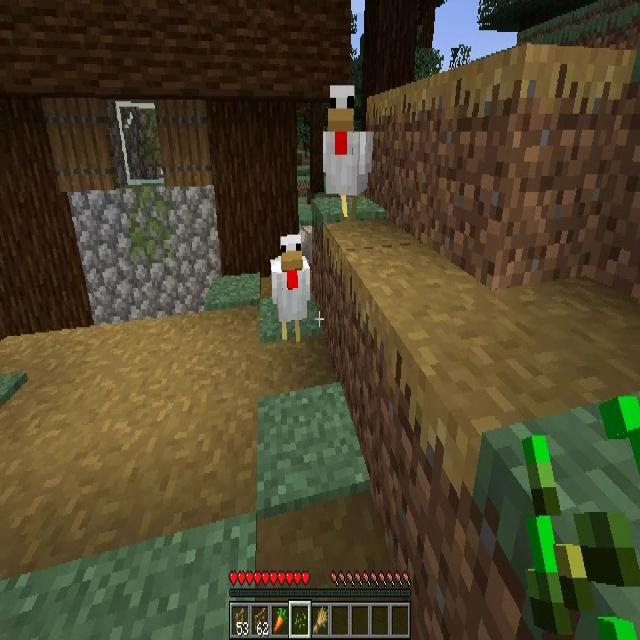duck: (320, 88, 374, 227), (269, 235, 309, 342)
